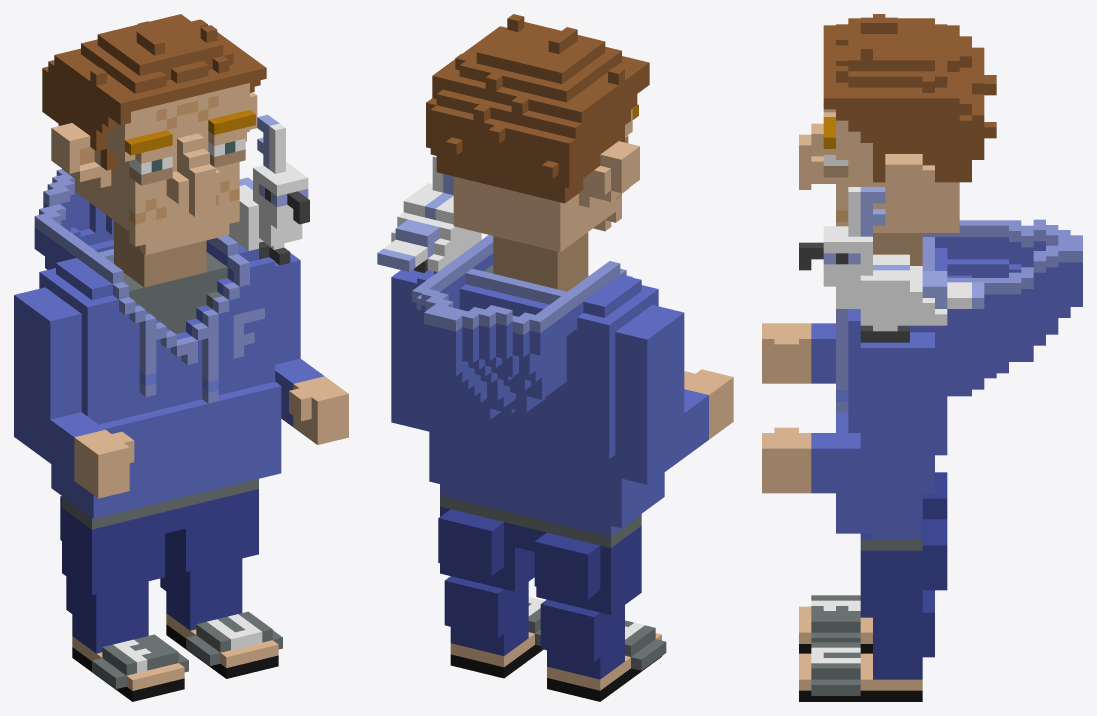
Rendered from MarkZuckerberg.gltf.
The picture shows the model from 3 angles, left to right: view 1: azimuth 30°, elevation 25°; view 2: azimuth 150°, elevation 25°; view 3: azimuth 270°, elevation 25°; orthographic projection. The views are drawn at different scales.
Size of the model in its own units: 24 by 57 by 26.
1 material, 1 textured.
